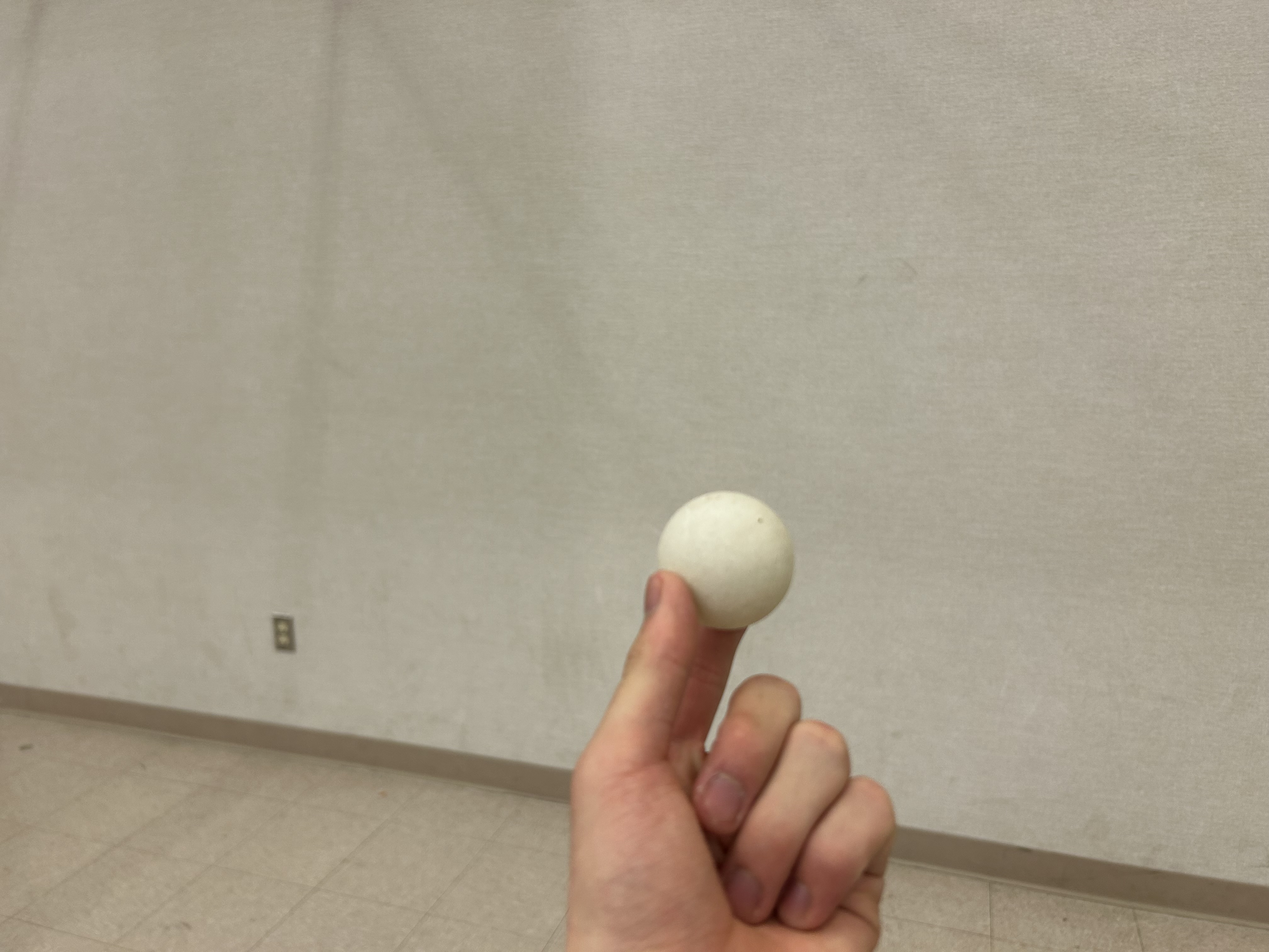Ball: (659, 475, 809, 626)
